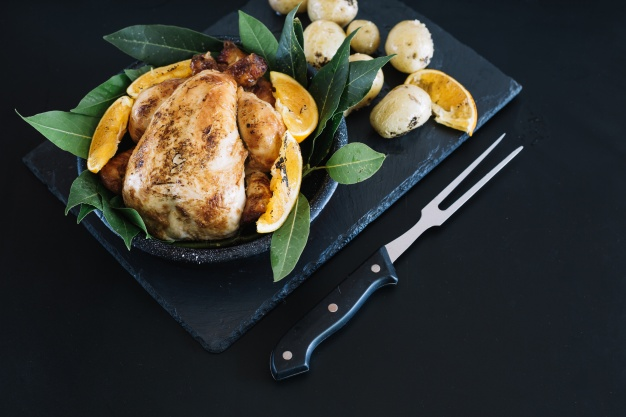boiled potatoes: (310, 10, 434, 68)
